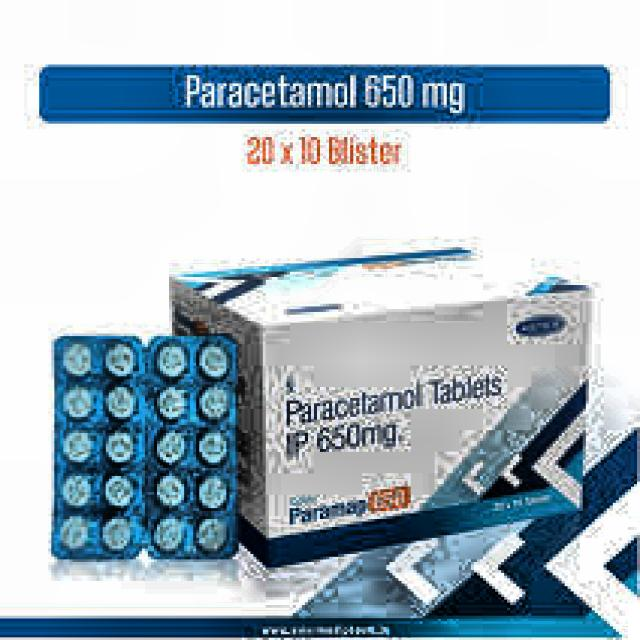Paracetamol: (162, 45, 514, 201), (272, 372, 540, 477)
